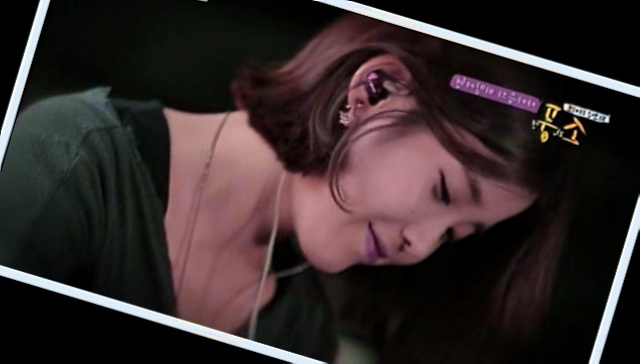earphone: (341, 46, 417, 136)
